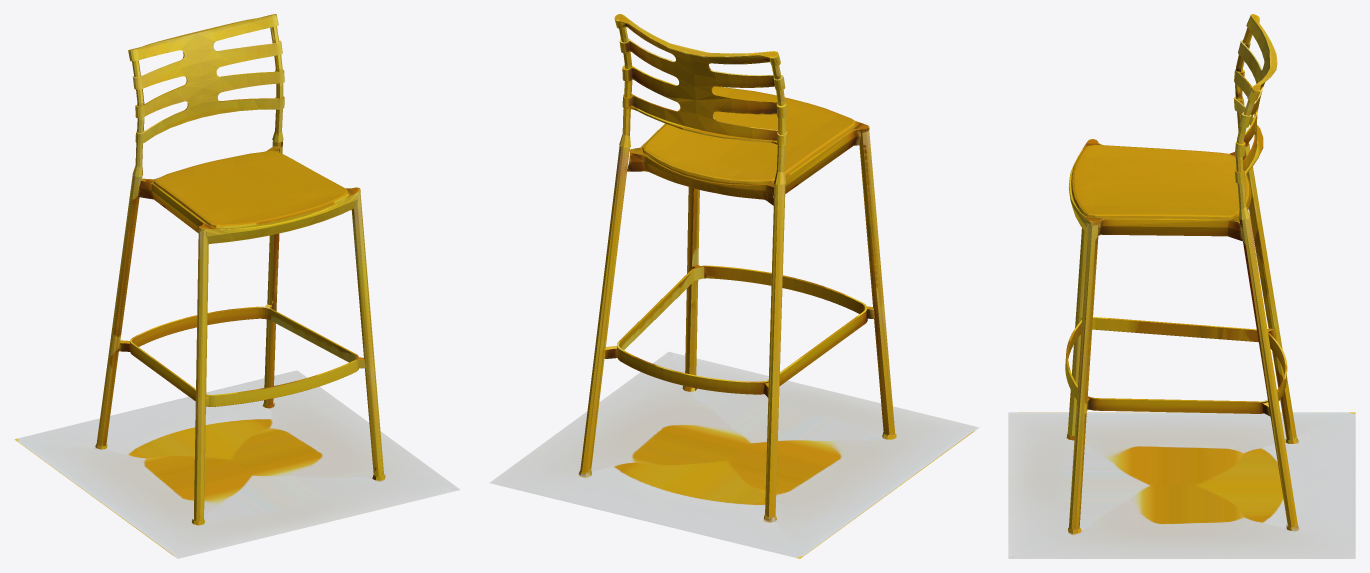
Rendered from edited_mesh.glb.
3 views of the same model, side by side, from view 1: azimuth 30°, elevation 25°; view 2: azimuth 150°, elevation 25°; view 3: azimuth 270°, elevation 25° (orthographic). The views are drawn at different scales.
Parts seen in each view (by area): view 1: normalized_model.obj; view 2: normalized_model.obj; view 3: normalized_model.obj.
Boxes of the visible parts, x1,y1,x2,y2 form: normalized_model.obj: (14, 14, 460, 558); normalized_model.obj: (489, 14, 979, 558); normalized_model.obj: (1008, 14, 1355, 558).
Bounding box in the file's own units: 1.45 × 2 × 1.45.
1 material, 1 textured.
